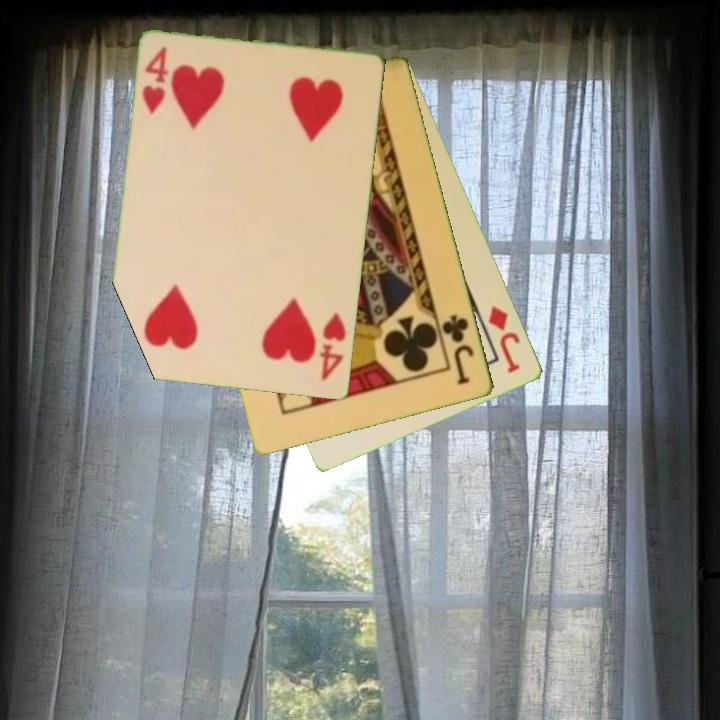4h: (316, 309, 349, 384), (139, 43, 172, 117)
Jc: (439, 311, 477, 388)
Jd: (485, 301, 524, 376)
